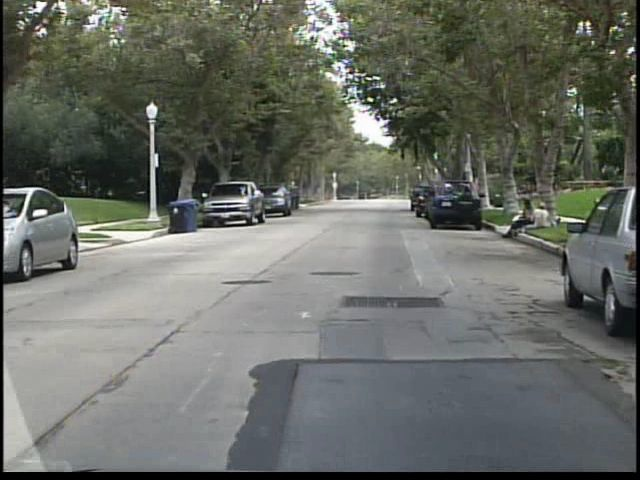person: (503, 198, 538, 242), (528, 203, 549, 229)
